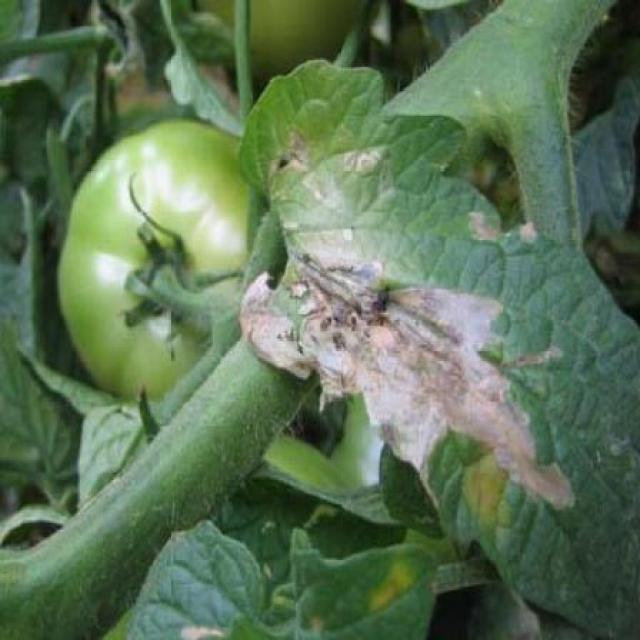Leaf Miner: (235, 54, 640, 637)
